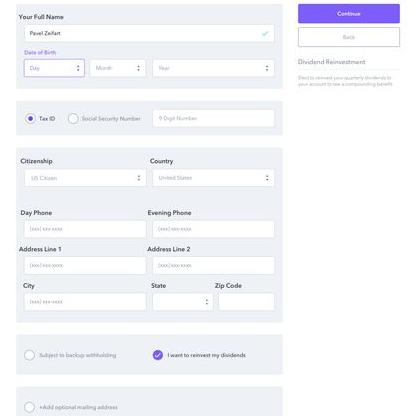button: (296, 25, 400, 48), (296, 3, 399, 25)
field: (22, 22, 275, 43), (18, 254, 148, 276), (17, 218, 148, 239), (148, 254, 276, 275), (147, 218, 274, 239), (19, 291, 148, 311), (152, 168, 274, 188), (152, 109, 275, 128), (23, 169, 146, 188), (151, 59, 274, 77), (210, 289, 274, 312), (151, 291, 213, 311), (23, 59, 85, 77), (88, 59, 146, 77)
field_with_label: (18, 12, 277, 45), (15, 208, 150, 241), (149, 157, 276, 190), (19, 158, 148, 190), (17, 281, 150, 312), (147, 209, 276, 240), (17, 247, 150, 277), (148, 246, 278, 276), (22, 48, 87, 79), (212, 282, 277, 313), (149, 282, 211, 313)
radio: (67, 109, 80, 125), (24, 348, 38, 362), (23, 402, 38, 415), (152, 348, 163, 361), (25, 113, 36, 124)
radio_with_label: (150, 345, 246, 363), (21, 346, 116, 363), (64, 107, 140, 126), (22, 111, 56, 125)
